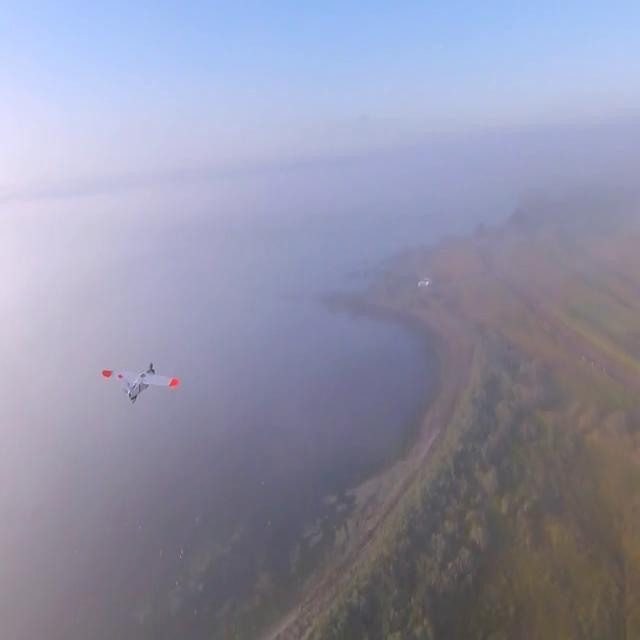iha: (133, 362, 149, 402)
